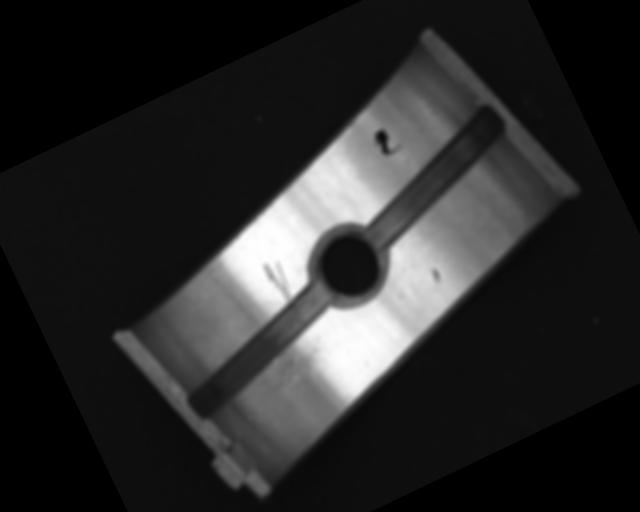blot: (369, 123, 403, 160)
bruise: (428, 265, 443, 285)
gap: (338, 103, 530, 253), (165, 278, 354, 421)
hole: (297, 213, 401, 317)
nick: (260, 257, 297, 308)
scratch: (232, 329, 350, 424)
